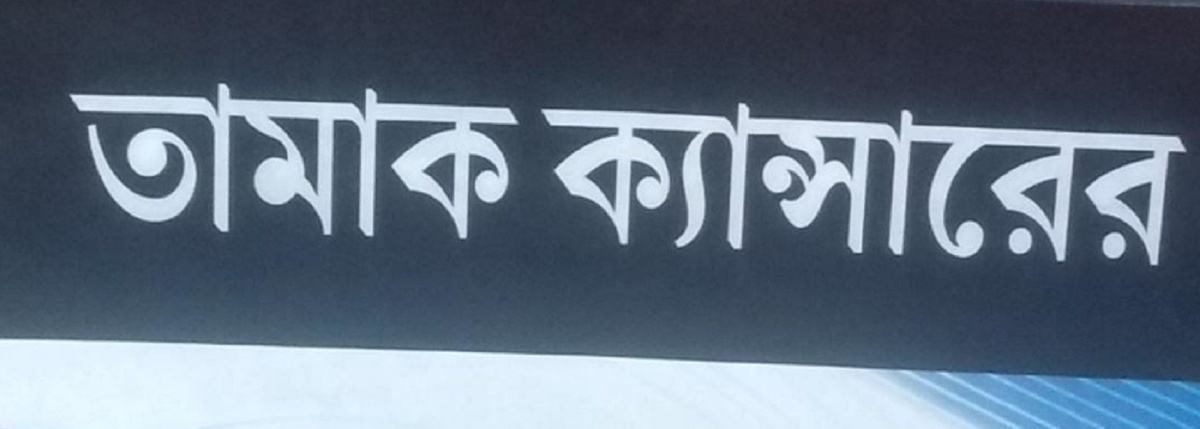text: (545, 90, 560, 269), (561, 90, 576, 269), (577, 90, 592, 269), (593, 90, 608, 269), (609, 90, 624, 269), (625, 90, 640, 269), (641, 90, 656, 269), (657, 90, 672, 269), (673, 90, 688, 269), (689, 90, 704, 269), (705, 90, 720, 269), (721, 90, 736, 269), (737, 90, 752, 269), (753, 90, 768, 269), (769, 90, 784, 269), (785, 90, 800, 269), (801, 90, 816, 269), (817, 90, 832, 269), (833, 90, 848, 269), (849, 90, 864, 269), (865, 90, 880, 269), (881, 90, 896, 269), (897, 90, 912, 269), (913, 90, 928, 269), (929, 90, 944, 269), (945, 90, 960, 269), (961, 90, 976, 269), (977, 90, 992, 269), (993, 90, 1008, 269), (1009, 90, 1024, 269), (1025, 90, 1040, 269), (1041, 90, 1056, 269), (1057, 90, 1072, 269), (1073, 90, 1088, 269), (1089, 90, 1104, 269), (1105, 90, 1120, 269), (1121, 90, 1136, 269), (1137, 90, 1152, 269), (1153, 90, 1168, 269), (1169, 90, 1184, 269), (81, 79, 96, 243), (97, 79, 112, 243), (113, 79, 128, 243), (129, 79, 144, 243), (145, 79, 160, 243), (161, 79, 176, 243), (177, 79, 192, 243), (193, 79, 208, 243), (209, 79, 224, 243), (225, 79, 240, 243), (241, 79, 256, 243), (257, 79, 272, 243), (273, 79, 288, 243), (289, 79, 304, 243), (305, 79, 320, 243), (321, 79, 336, 243), (337, 79, 352, 243), (353, 79, 368, 243), (369, 79, 384, 243), (385, 79, 400, 243), (401, 79, 416, 243), (417, 79, 432, 243), (433, 79, 448, 243), (449, 79, 464, 243), (465, 79, 480, 243), (481, 79, 496, 243), (497, 79, 512, 243), (67, 79, 80, 243), (536, 90, 544, 269), (513, 79, 521, 243), (1185, 90, 1192, 269)
